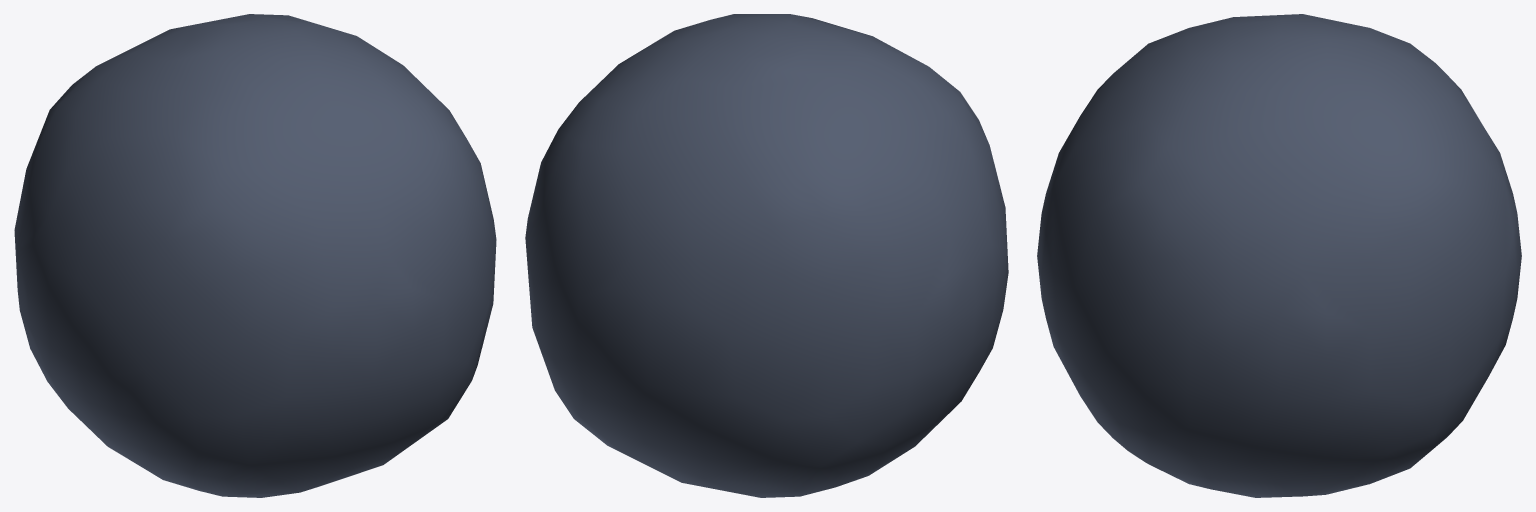
File: human_character.glb
The picture shows the model from 3 angles, left to right: view 1: azimuth 30°, elevation 25°; view 2: azimuth 150°, elevation 25°; view 3: azimuth 270°, elevation 25°; orthographic projection.
Visible parts, largest first — view 1: Human_Body; view 2: Human_Body; view 3: Human_Body.
Boxes of the visible parts, box(x1,y1,x2,y2) form: Human_Body: box(14, 14, 496, 497); Human_Body: box(525, 14, 1008, 497); Human_Body: box(1037, 14, 1521, 497).
Bounding box in the file's own units: 0.0953 × 0.0953 × 0.0953.
